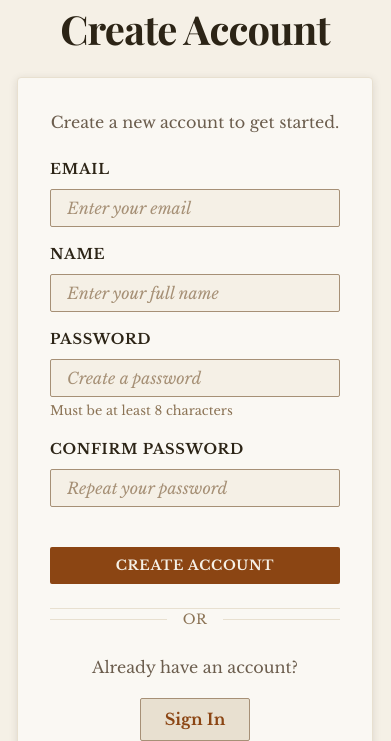
Test case: Register › form validation › should show error when password is too short
In the field with id "email": (195, 208) [50, 189, 340, 227], type "test@example.com"
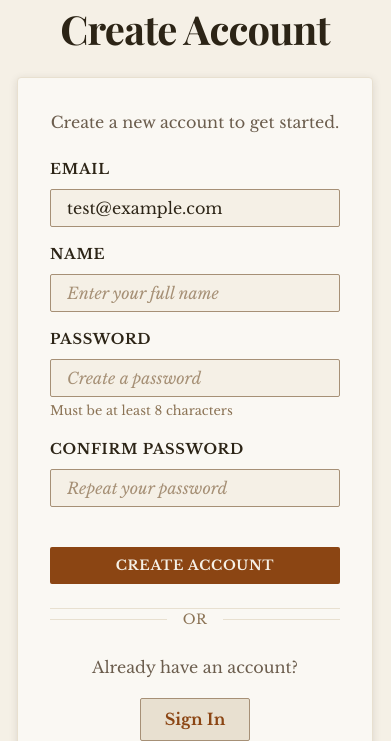
In the field with id "name": (195, 293) [50, 274, 340, 312], type "Test User"
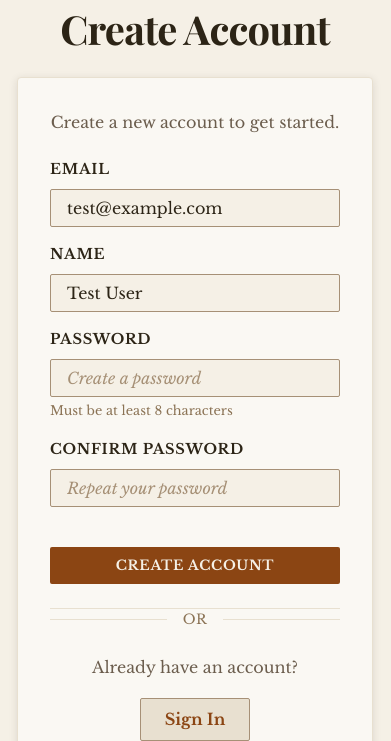
In the password field labelled "Password": (195, 378) [50, 359, 340, 397], type "short"
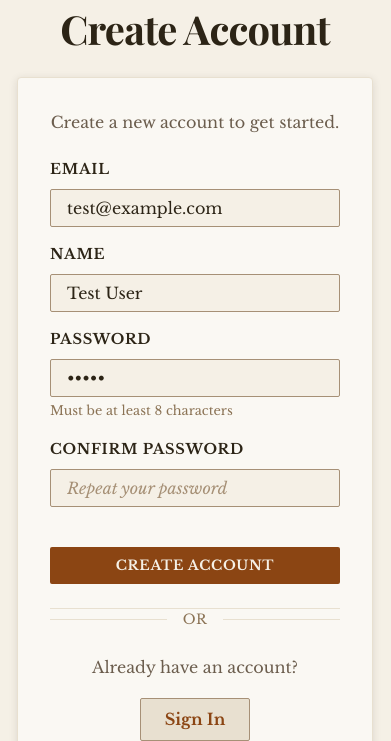
Submit the form, box [50, 158, 340, 584]
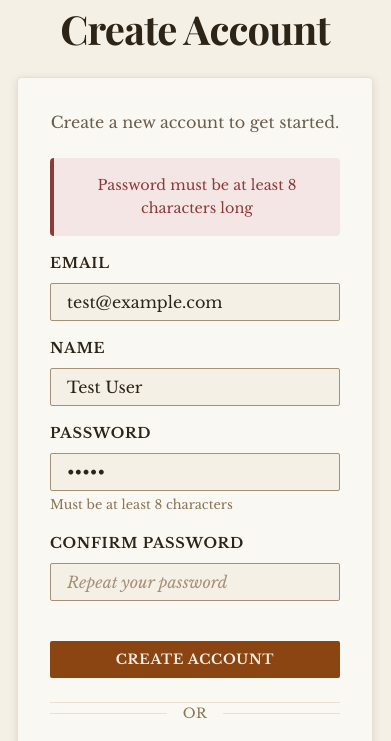
Now the text "Password must be at least 8 characters long" is shown, box [50, 158, 340, 236]
